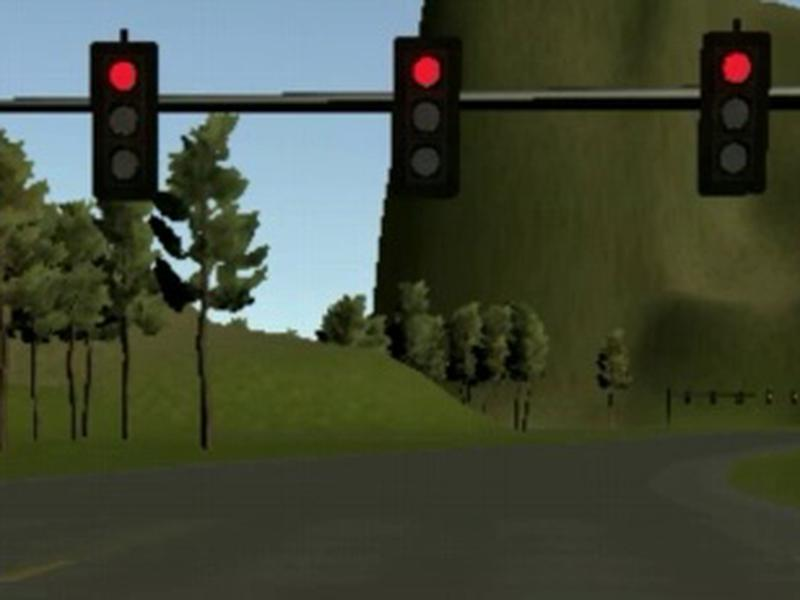Red: (698, 31, 771, 196), (393, 37, 461, 198), (91, 42, 158, 202)
